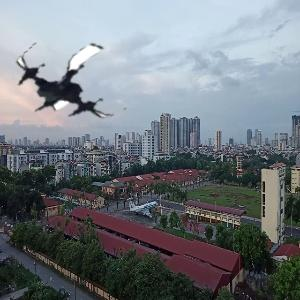drone: (17, 24, 132, 139)
